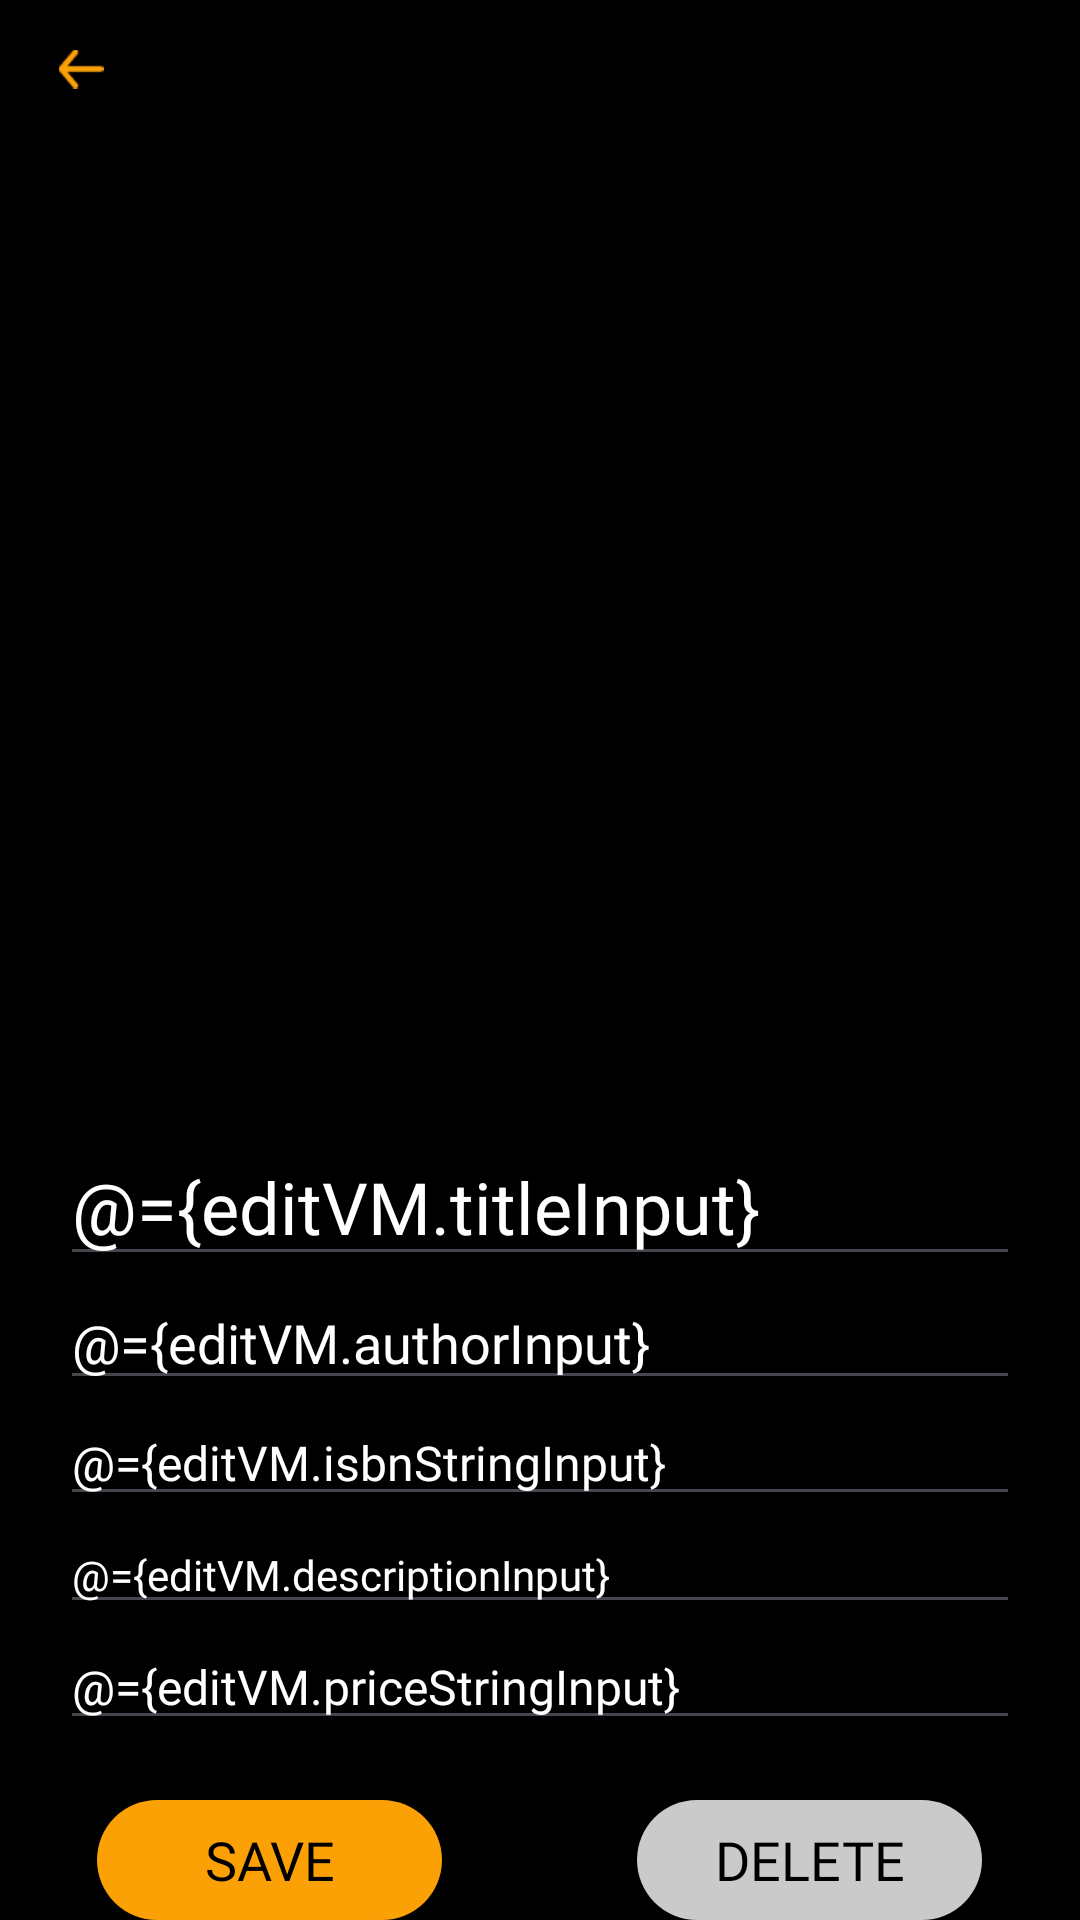

Where to tap for icons on this 1080*1920 app screen, as (x=x, y=y):
Back: (x=81, y=69)
